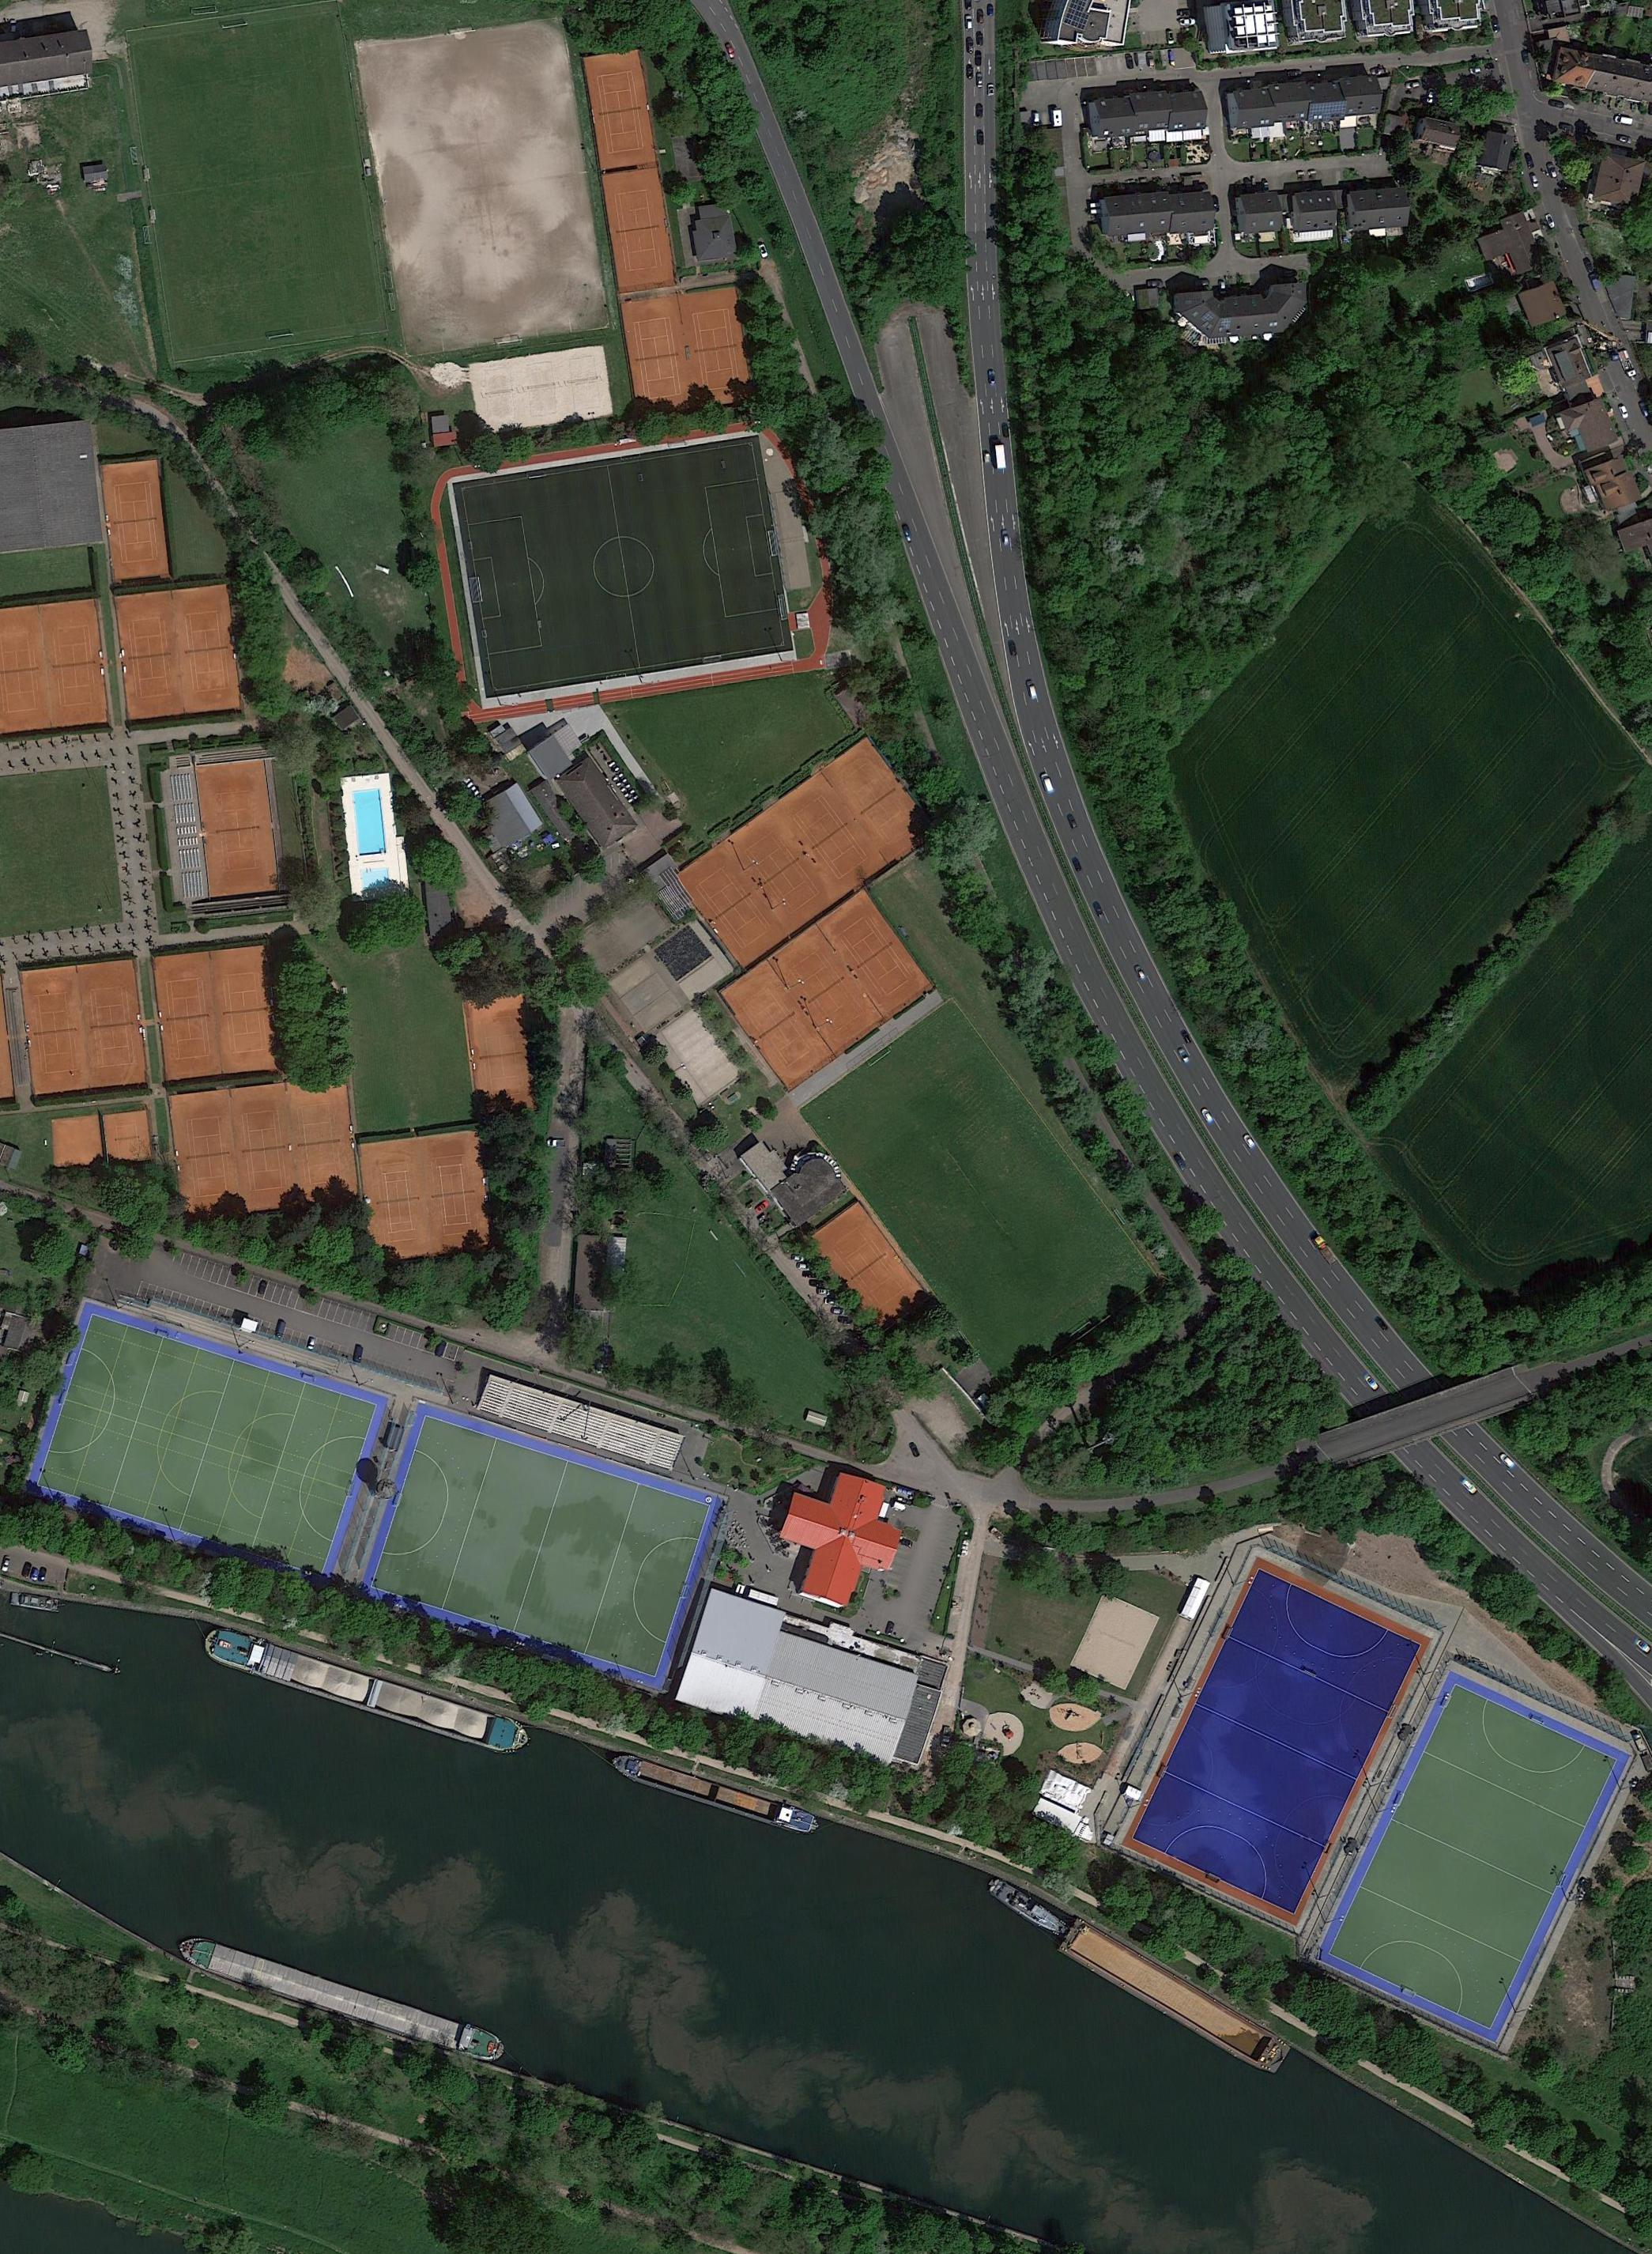ship: (981, 1871, 1294, 2080), (172, 1930, 509, 2068), (199, 1623, 534, 1761), (609, 1750, 823, 1839), (9, 1591, 62, 1614)
